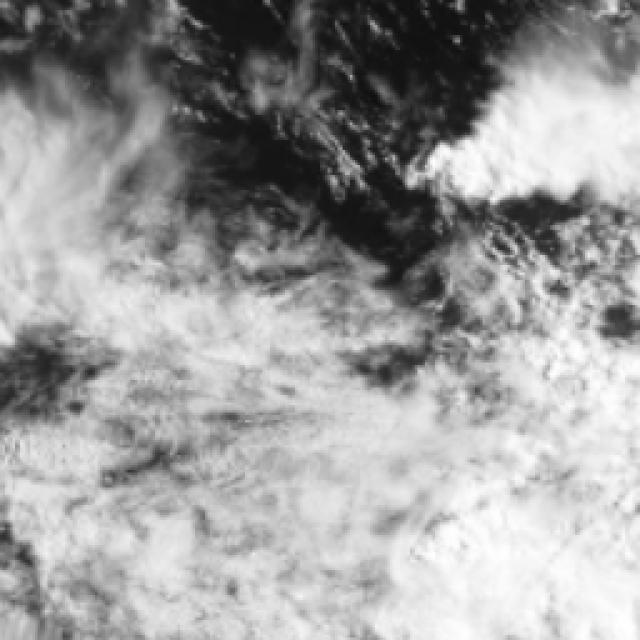CB: (433, 503, 631, 621)
